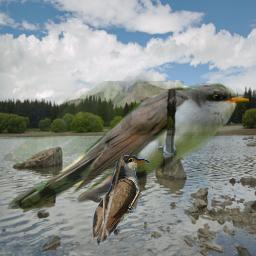Cuckoo: (4, 81, 249, 209), (92, 155, 164, 245)
